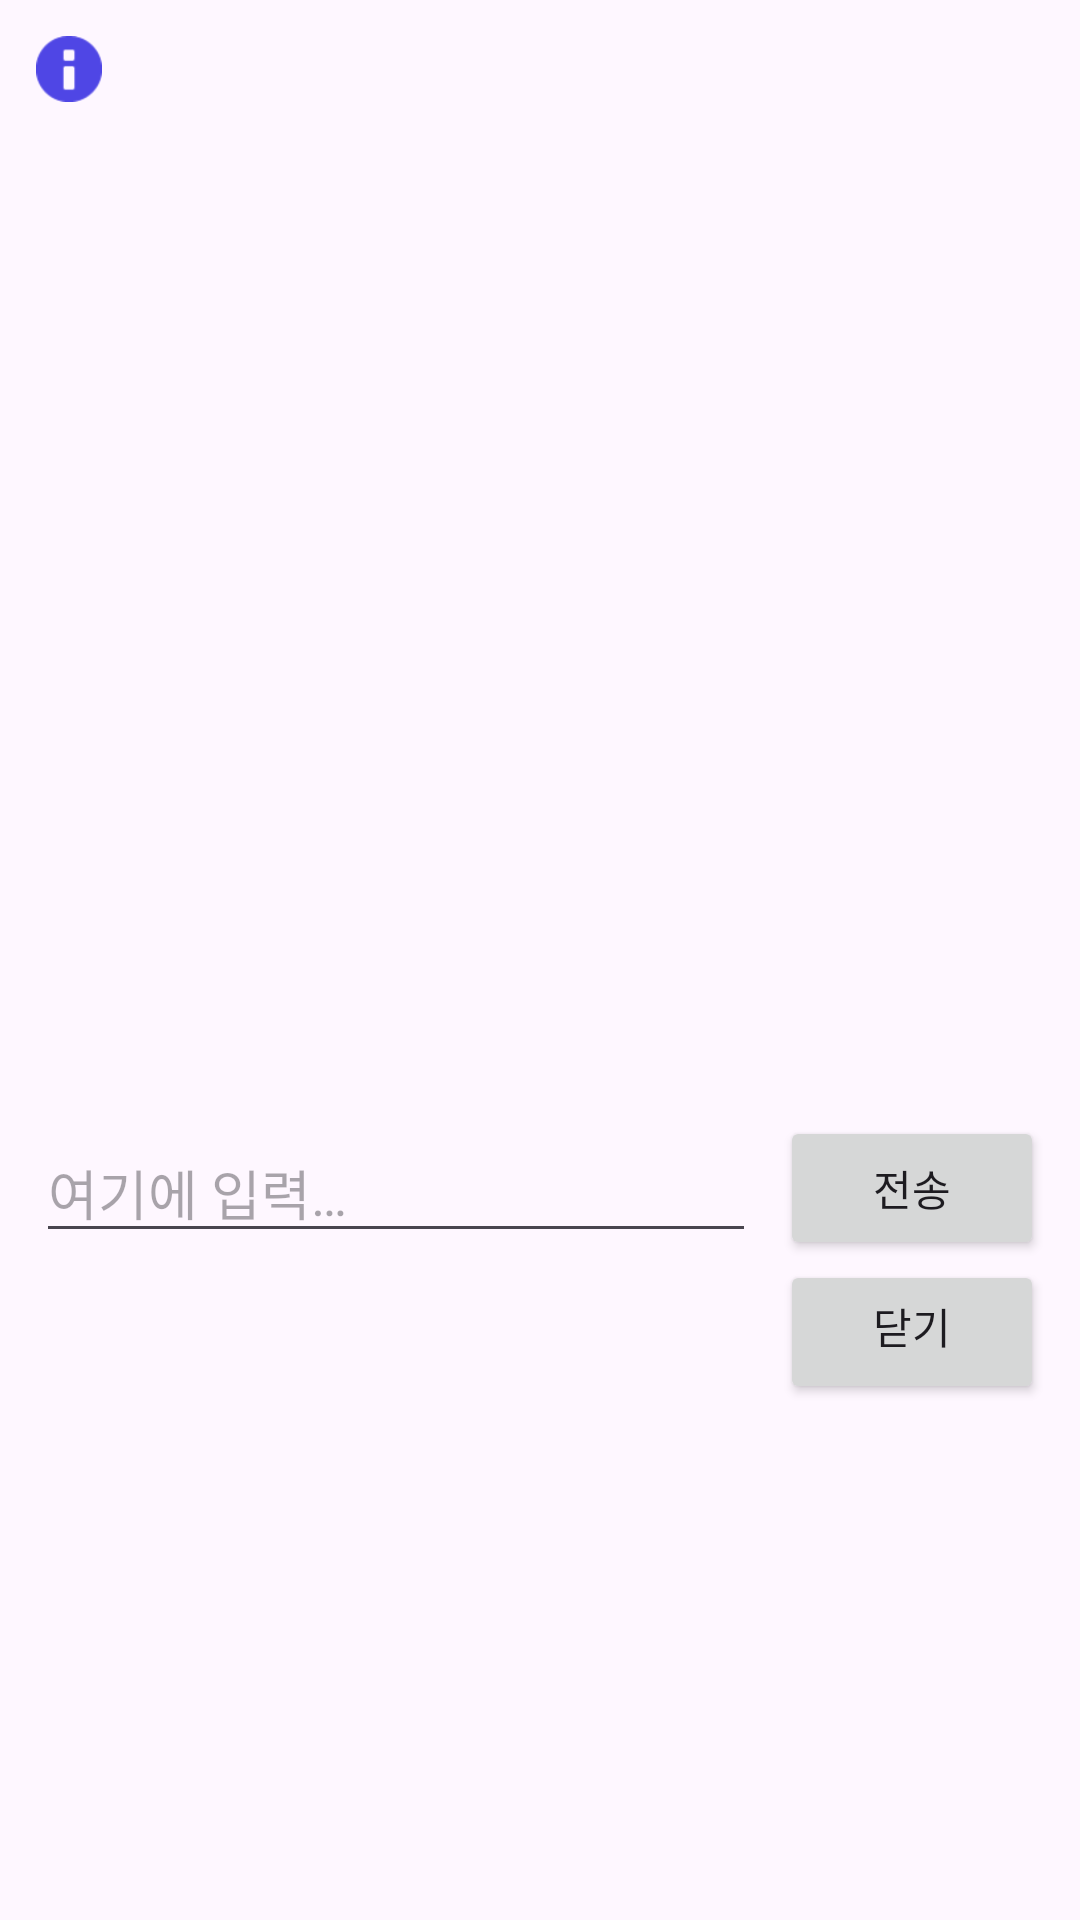

Icon click points for this 1080 × 1920 phone screenshot, format [x,y]:
info: [69,69]
